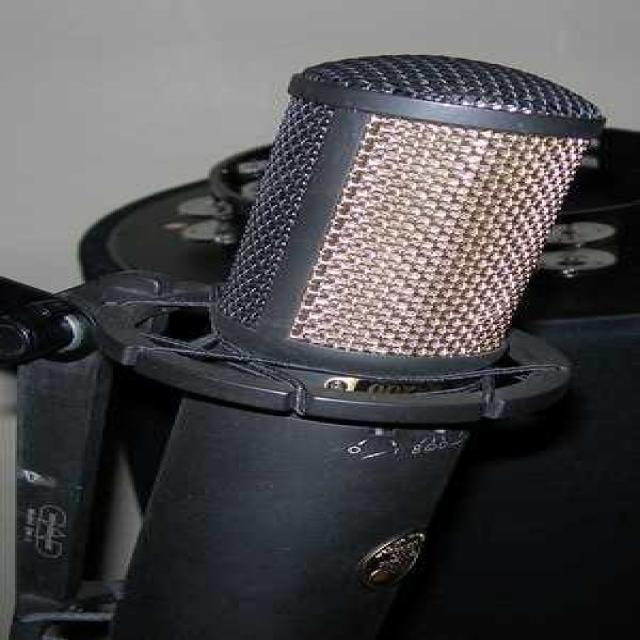microphone: (32, 50, 628, 453)
